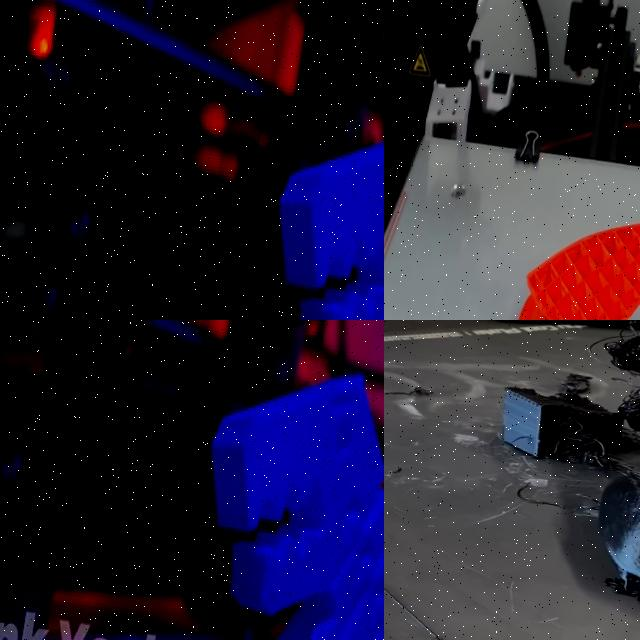spaghetti: (533, 320, 640, 495)
